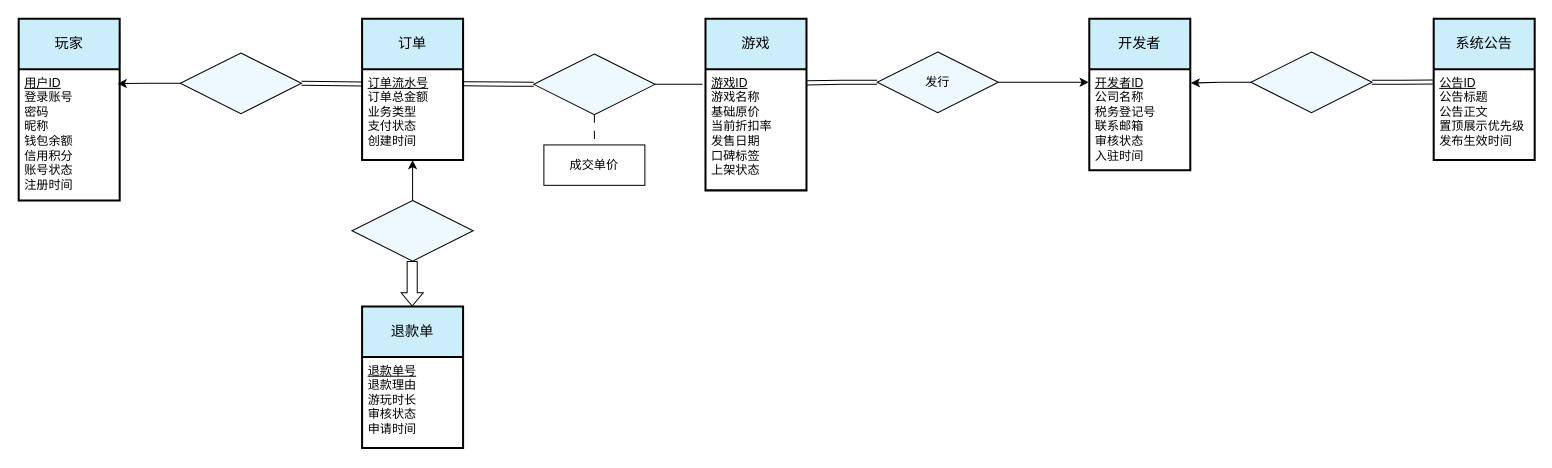
This 1552x468 diagram has some shape labels left out. Here are the shapes that lost their labels. From the top down, the centre of each, then its label:
At [240,83]: "下单".
At [594,84]: "出售".
At [1311,82]: "发布".
At [412,230]: "退款".
